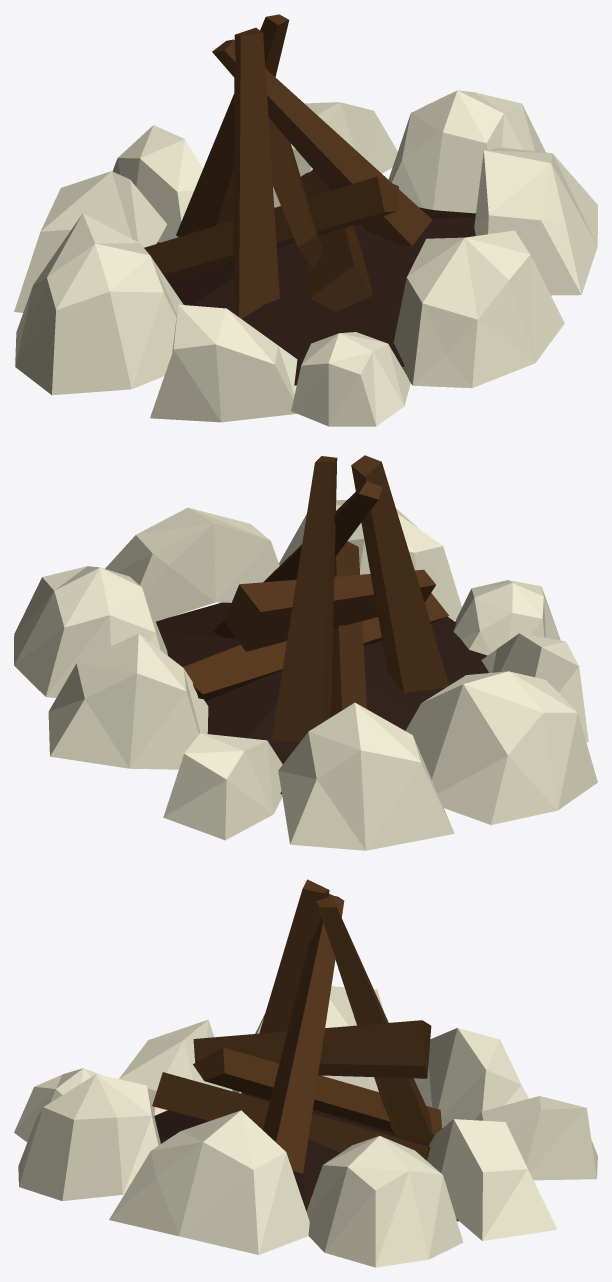
File: campfire.FBX
3 views of the same model, one above another, from view 1: azimuth 30°, elevation 25°; view 2: azimuth 150°, elevation 25°; view 3: azimuth 270°, elevation 25° (orthographic). The views are drawn at different scales.
Parts seen in each view (by area): view 1: campfire; view 2: campfire; view 3: campfire.
Part boxes in pixels (left/top/right/bottom): campfire: left=14, top=14, right=597, bottom=426; campfire: left=14, top=455, right=597, bottom=850; campfire: left=14, top=879, right=597, bottom=1267.
Size of the model in its own units: 61.61 by 31.96 by 58.98.
